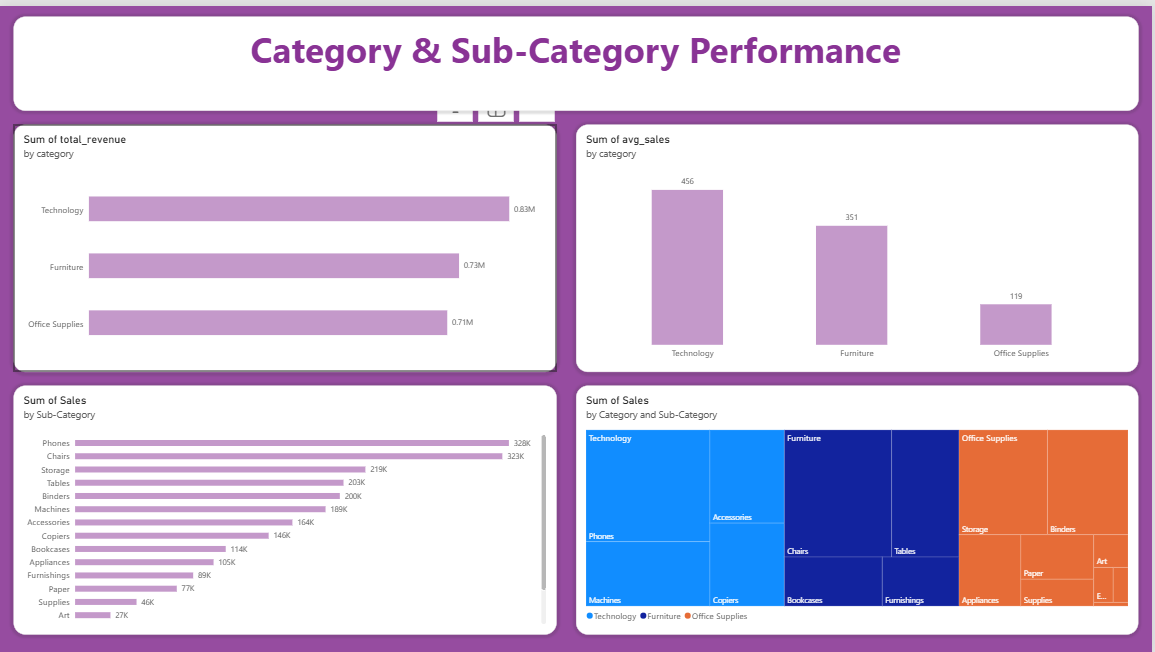

This screenshot's page, from the dashboard's own definition file:
{"tool":"powerbi","page":{"name":"Sales Performance","canvas":[1920,1080],"ordinal":1},"visuals":[{"type":"clusteredBarChart","fields":{"Category":["Category Revenue.category"],"Y":["Sum(Category Revenue.total_revenue)"]},"box":[22.5,197.5,905,412.5],"z":0},{"type":"clusteredColumnChart","fields":{"Category":["Category Stats.category"],"Y":["Sum(Category Stats.avg_sales)"]},"box":[960,197.5,937.5,412.5],"z":1000},{"type":"clusteredBarChart","fields":{"Category":["Raw_data.Sub-Category"],"Y":["Sum(Raw_data.Sales)"]},"box":[22.5,632.5,905,415],"z":2000},{"type":"treemap","fields":{"Details":["Raw_data.Sub-Category"],"Group":["Raw_data.Category"],"Values":["Sum(Raw_data.Sales)"]},"box":[960,632.5,937.5,415],"z":3000},{"type":"textbox","box":[22.5,17.5,1875,157.5],"z":4000}]}

Visuals, with their boxes in screenshot pixels (x1, y1, x2, y2), scaled from the page's 1920x1080 canvas onto the 1155x652 screenshot:
clusteredBarChart - Category Revenue.category x Sum(Category Revenue.total_revenue): left=14, top=119, right=558, bottom=368
clusteredColumnChart - Category Stats.category x Sum(Category Stats.avg_sales): left=578, top=119, right=1141, bottom=368
clusteredBarChart - Raw_data.Sub-Category x Sum(Raw_data.Sales): left=14, top=382, right=558, bottom=632
treemap - Raw_data.Sub-Category x Raw_data.Category: left=578, top=382, right=1141, bottom=632
textbox: left=14, top=11, right=1141, bottom=106
